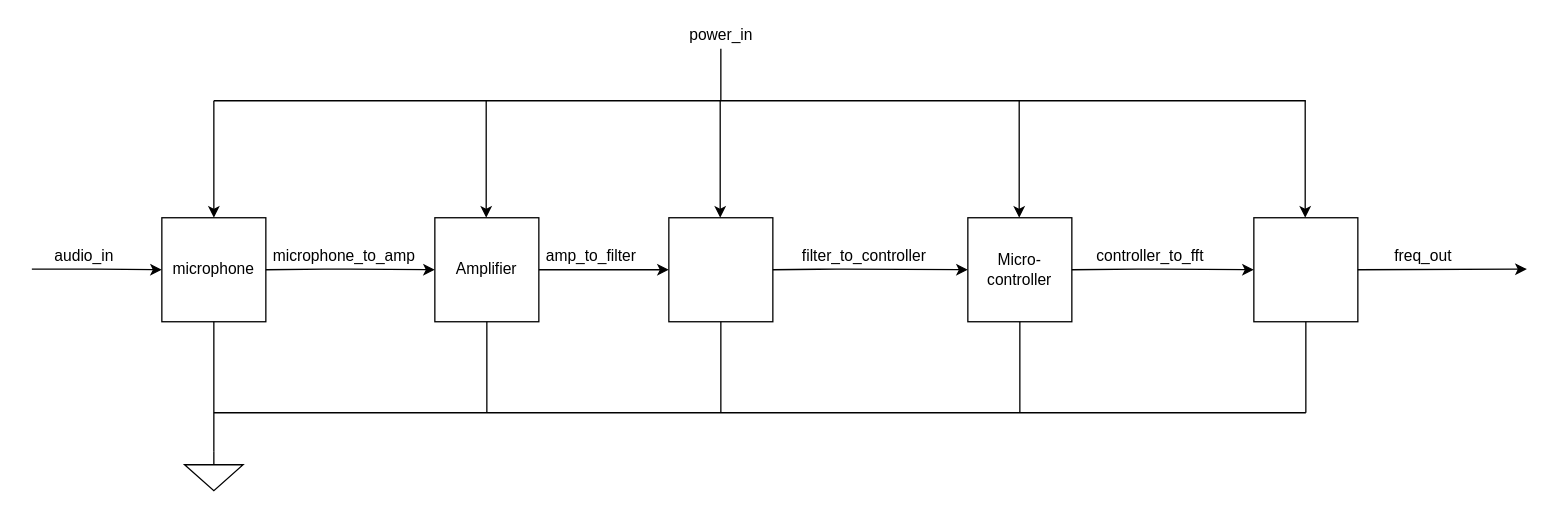
The diagram is 1560 pixels wide and 514 high, and some of its shapes have lost their labels. The shapes that lost their labels are listed below. From the top down, each one's box as (x1, y1, x2, y2) in pixels, then its label:
(668, 216, 773, 322): Filter
(1253, 216, 1358, 322): FFT
